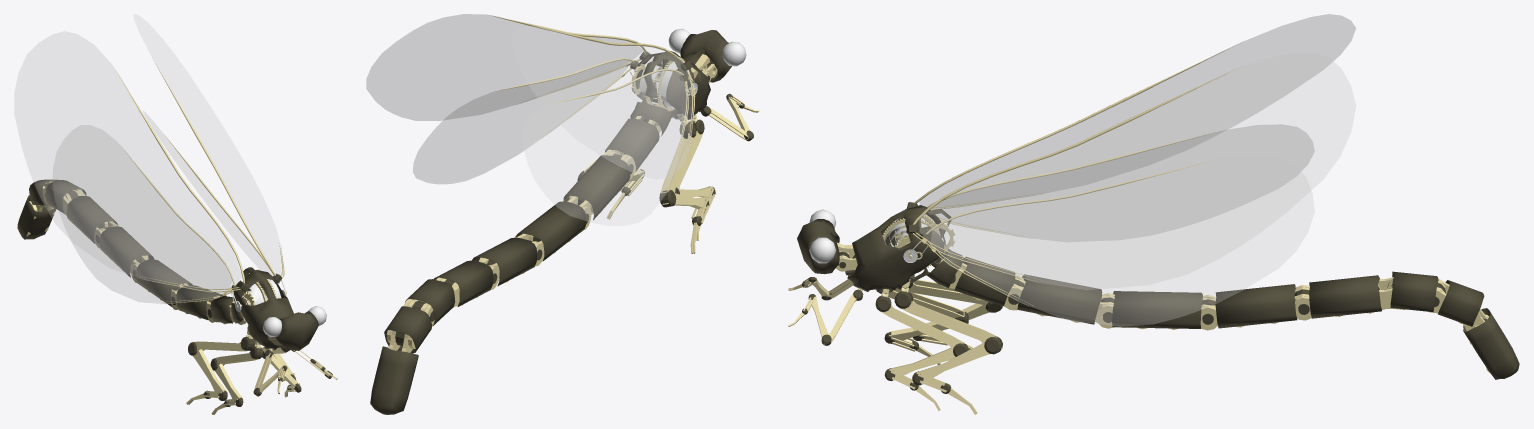
Rendered from dragonfly.fbx.
3 views of the same model, side by side, from view 1: azimuth 30°, elevation 25°; view 2: azimuth 150°, elevation 25°; view 3: azimuth 270°, elevation 25° (orthographic). The views are drawn at different scales.
Parts seen in each view (by area): view 1: Cube.012; view 2: Cube.012; view 3: Cube.012.
Boxes of the visible parts, x1,y1,x2,y2 form: Cube.012: [14, 14, 337, 414]; Cube.012: [366, 14, 759, 414]; Cube.012: [788, 14, 1519, 414].
Size of the model in its own units: 154 by 203 by 381.
